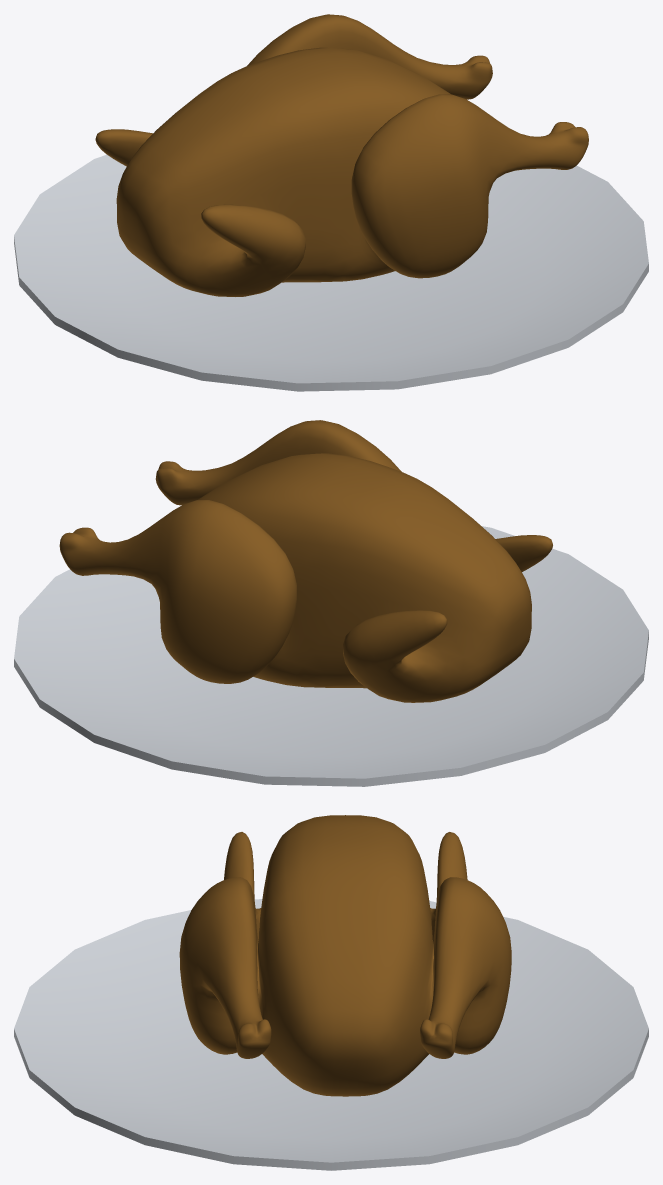
Rendered from chicken.glb.
3 views of the same model, one above another, from view 1: azimuth 30°, elevation 25°; view 2: azimuth 150°, elevation 25°; view 3: azimuth 270°, elevation 25° (orthographic).
Parts seen in each view (by area): view 1: chicken_high; view 2: chicken_high; view 3: chicken_high.
Part boxes in pixels (left/top/right/bottom): chicken_high: left=14, top=14, right=648, bottom=391; chicken_high: left=14, top=420, right=648, bottom=786; chicken_high: left=14, top=815, right=648, bottom=1170.
Bounding box in the file's own units: 2.33 × 0.8326 × 2.33.
